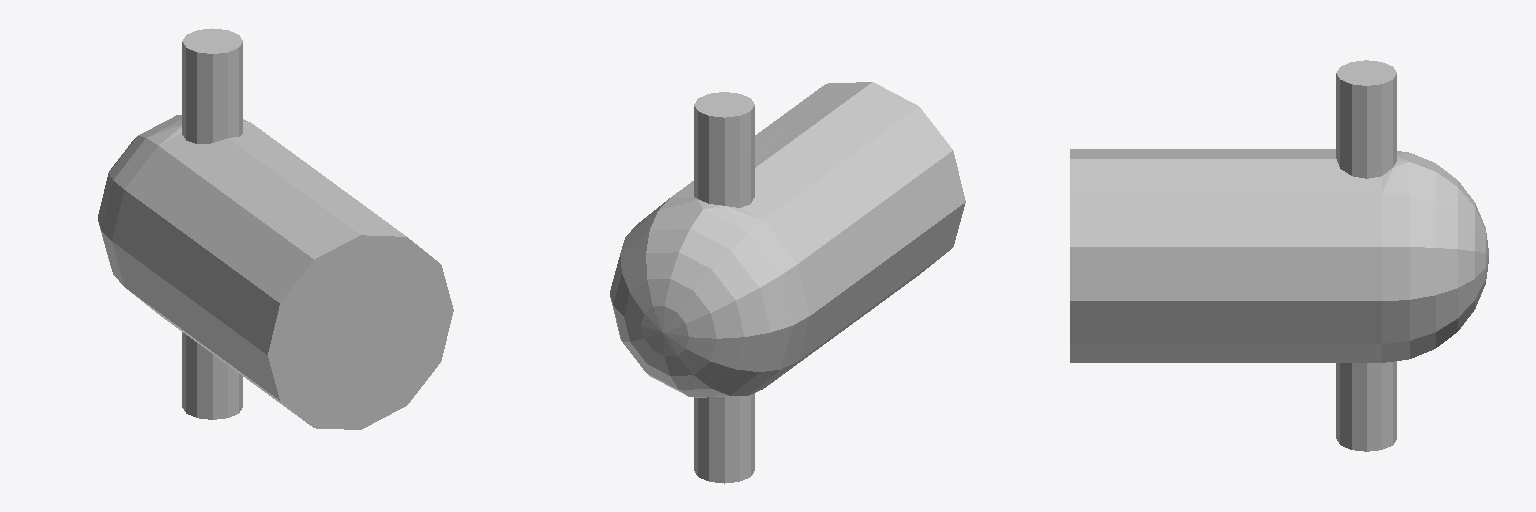
The model's file is WallGunTurret - Copy.obj.
3 views of the same model, side by side, from view 1: azimuth 30°, elevation 25°; view 2: azimuth 150°, elevation 25°; view 3: azimuth 270°, elevation 25° (orthographic).
Visible parts, largest first — view 1: Cube.002; view 2: Cube.002; view 3: Cube.002.
Boxes of the visible parts, x1,y1,x2,y2 form: Cube.002: [98, 28, 453, 429]; Cube.002: [610, 82, 965, 483]; Cube.002: [1070, 60, 1488, 451].
Bounding box in the file's own units: 2 × 3.76 × 3.9.